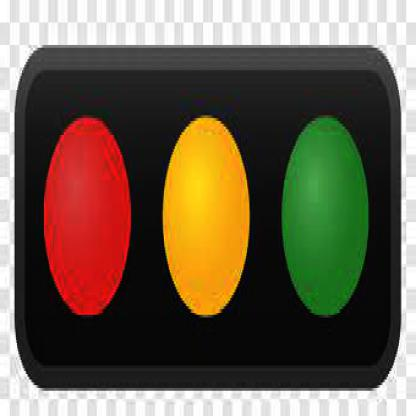traffic-light: (37, 79, 377, 343)
